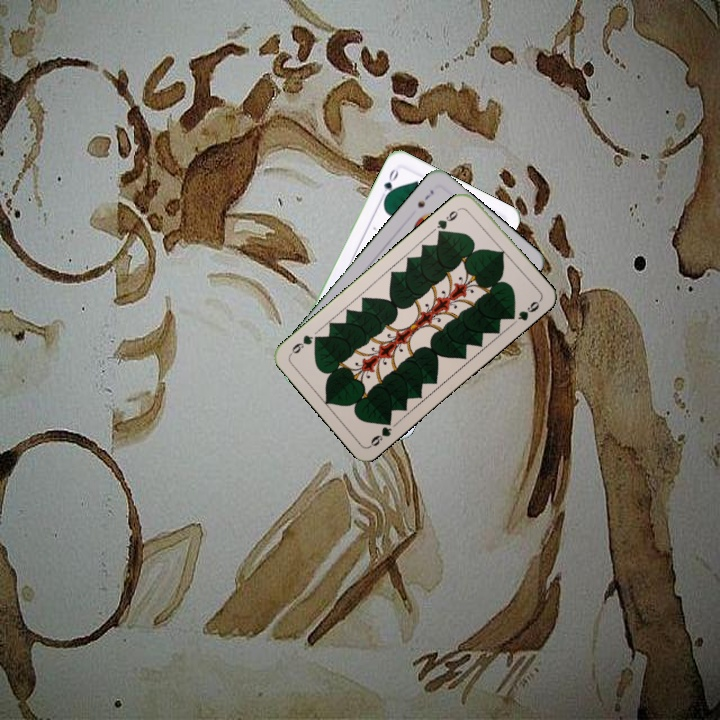G9: (432, 204, 464, 238), (366, 414, 394, 449)
GO: (380, 165, 401, 203)
S7: (413, 186, 436, 210)
